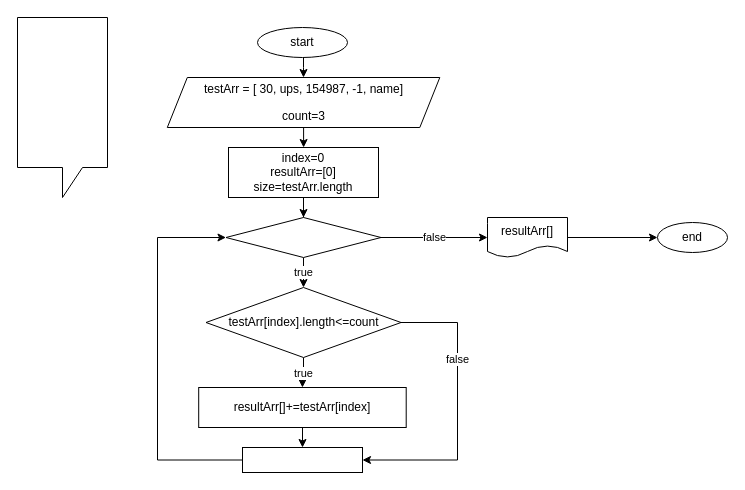
Some shapes in this 745 by 490 pixel diagram are drawn without their labels. The centre of each missing label's shape, as x and y in pixels:
index < size: pixel 303 237
index++: pixel 302 459
Метод нахождения в массиве строк, длина которых меньше либо равна 3 символа: pixel 62 107
